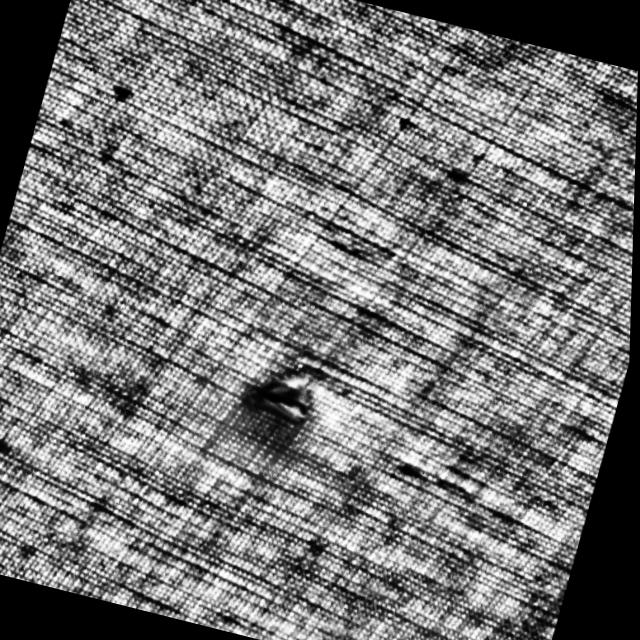Stitch: (239, 371, 318, 428)
